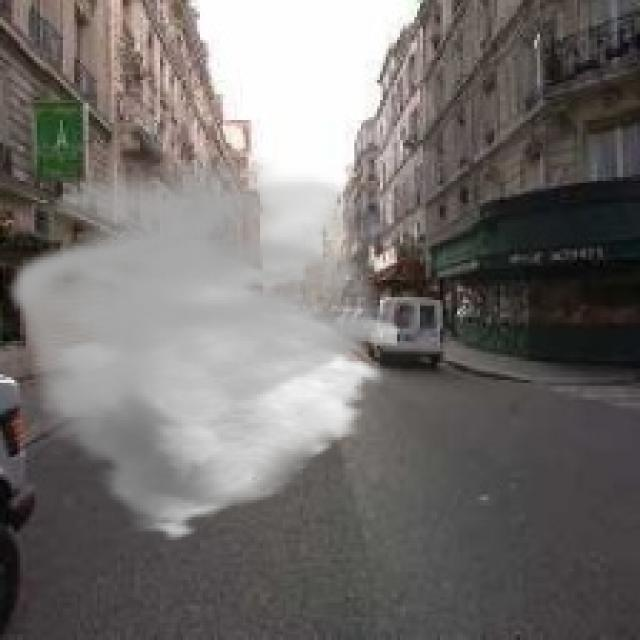Smoke: (2, 154, 398, 543)
